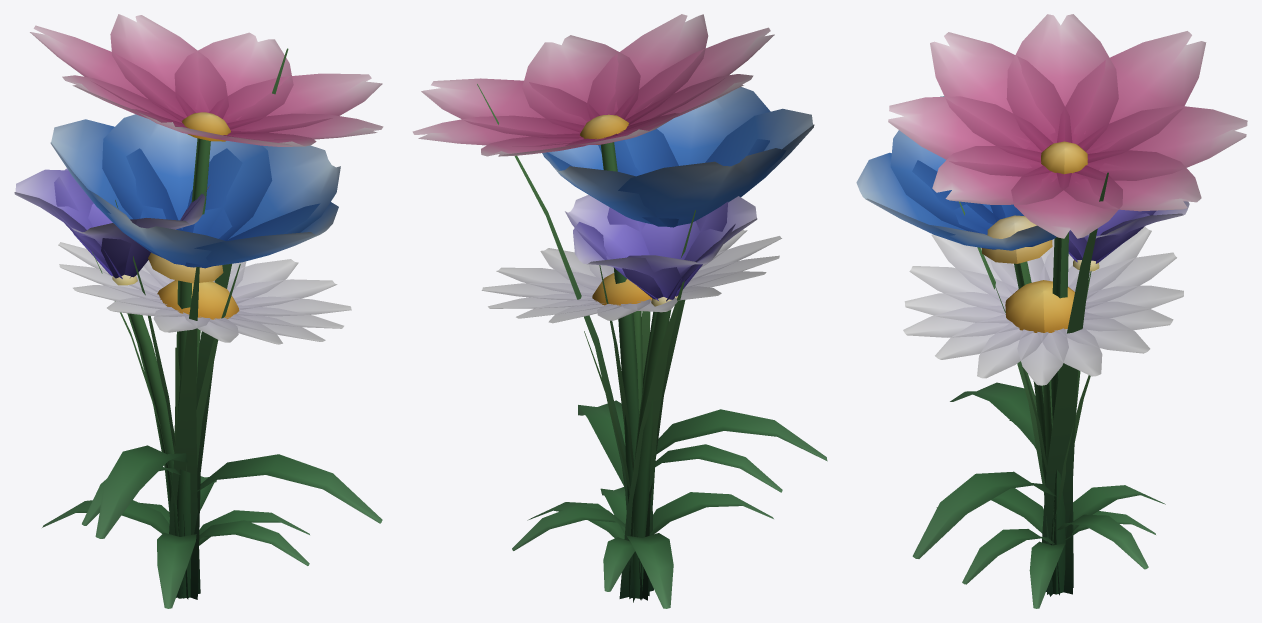
File: flowers.glb
3 renders of one model, left to right at view 1: azimuth 30°, elevation 25°; view 2: azimuth 150°, elevation 25°; view 3: azimuth 270°, elevation 25°, orthographic. The views are drawn at different scales.
Visible parts, largest first — view 1: moonweed, cosmos, daisy, bell, grass; view 2: cosmos, moonweed, bell, daisy, grass; view 3: cosmos, daisy, moonweed, grass, bell.
Boxes of the visible parts, x1,y1,x2,y2 form: moonweed: [42, 114, 340, 608]; cosmos: [30, 14, 383, 578]; daisy: [58, 242, 351, 545]; bell: [14, 168, 309, 598]; grass: [92, 48, 288, 599]; cosmos: [412, 14, 827, 596]; moonweed: [542, 87, 814, 608]; bell: [512, 195, 782, 598]; daisy: [481, 230, 781, 591]; grass: [477, 84, 695, 602]; cosmos: [888, 14, 1247, 594]; daisy: [903, 227, 1183, 608]; moonweed: [856, 96, 1165, 533]; grass: [959, 172, 1108, 596]; bell: [962, 201, 1189, 584].
Bounding box in the file's own units: 0.4077 × 0.6191 × 0.4192.
